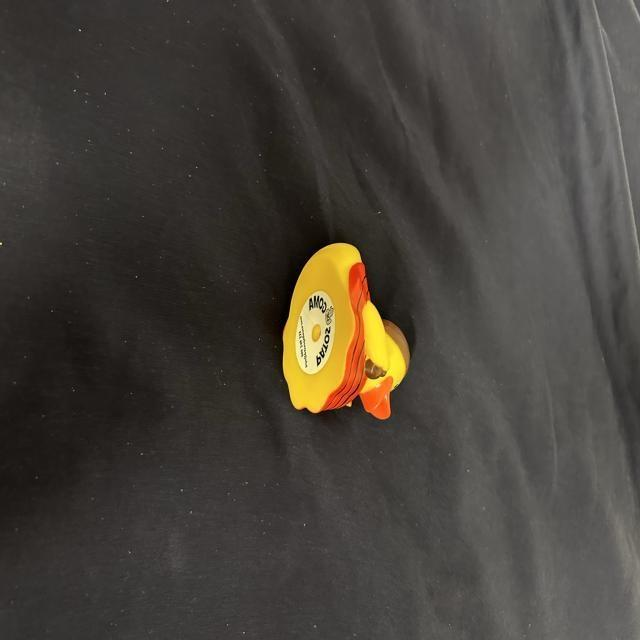rubber-duck: (282, 242, 408, 418)
